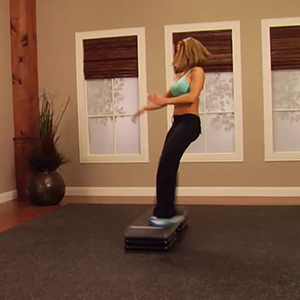person: (130, 34, 210, 226)
